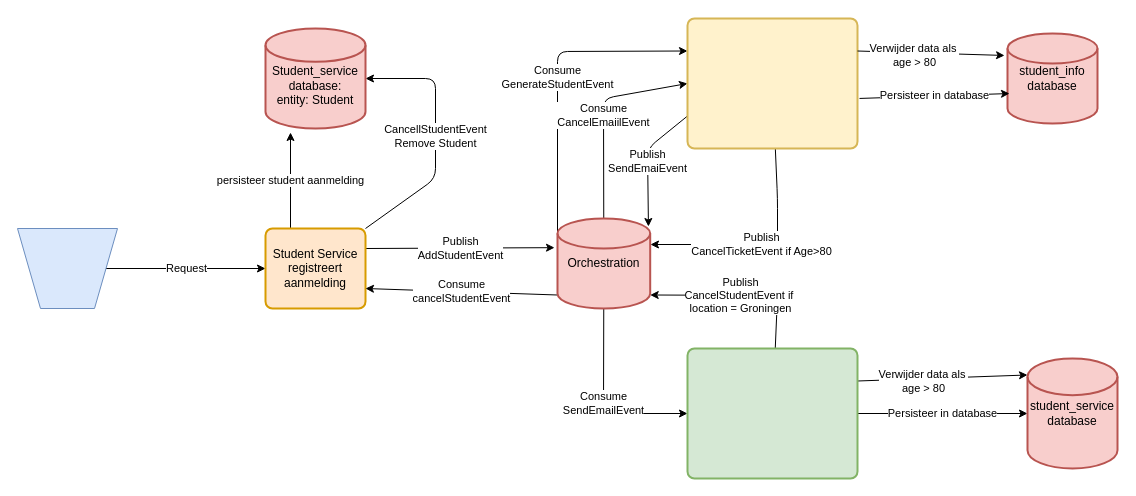
This 1136x496 diagram has some shape labels left out. Here are the shapes that lost their labels. From the top down, the centre of each, then its label:
At point (772, 83): "GenerateStudent service Maakt een nieuwe student aan en geeft studentnummer uit.".
At point (67, 268): "Student meld zich aan".
At point (772, 413): "EmailService (NotificationService) Stuur confirmatie mail".
